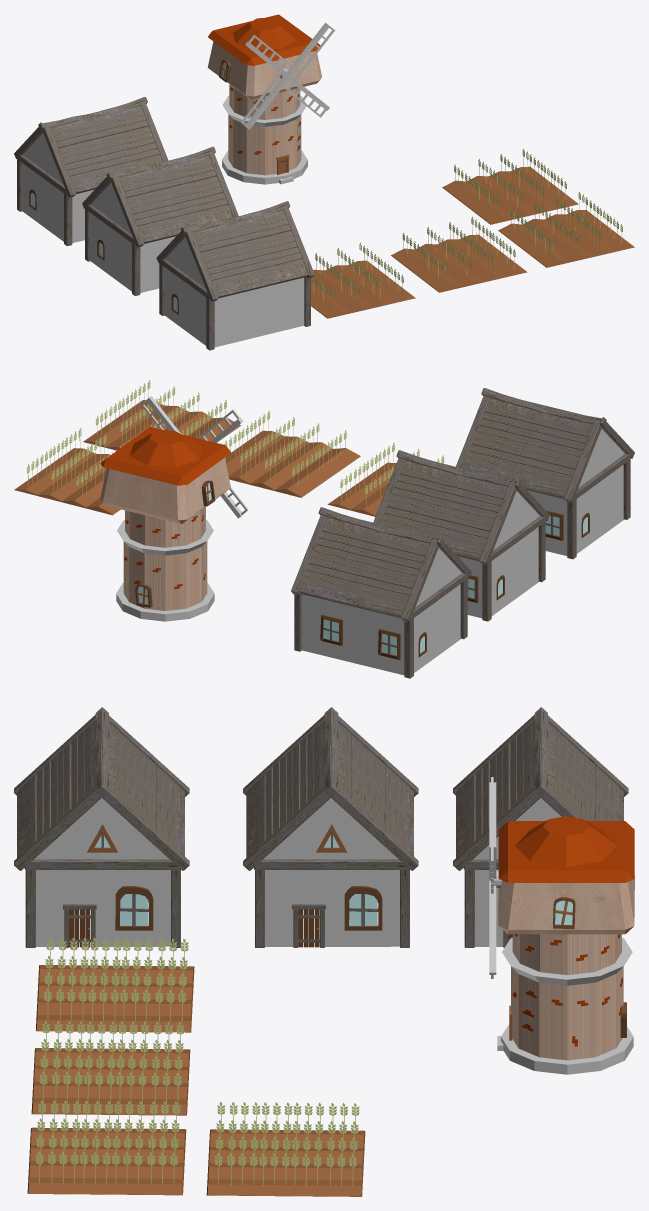
The model's file is field_lvl_32.fbx.
3 renders of one model, top to bottom at view 1: azimuth 30°, elevation 25°; view 2: azimuth 150°, elevation 25°; view 3: azimuth 270°, elevation 25°, orthographic. The views are drawn at different scales.
Visible parts, largest first — view 1: Cube.014, Cube.004, Cube.017, Cube.016, Cylinder, Plane.001, Plane.002, Plane.006, Plane.004, Cube.006, Cube.019, Cube.021 (+8 smaller); view 2: Cube.017, Cube.014, Cube.004, Cube.019, Cylinder, Plane.002, Cube.021, Cube.016, Cube, Cube.006, Plane.006, Plane.001 (+10 smaller); view 3: Cube.004, Cube.014, Cube.017, Cylinder, Cube.006, Cube.016, Plane.006, Plane.001, Plane.004, Plane.002, Cube.021, Cube (+13 smaller).
Part boxes in pixels (x1,y1,x2,y2): Cube.014: (156, 201, 314, 350); Cube.004: (82, 146, 238, 295); Cube.017: (14, 97, 168, 246); Cube.016: (165, 237, 304, 347); Cylinder: (228, 84, 301, 175); Plane.001: (498, 210, 634, 267); Plane.002: (391, 234, 527, 292); Plane.006: (442, 166, 578, 224); Plane.004: (311, 260, 415, 318); Cube.006: (90, 182, 175, 292); Cube.019: (22, 133, 94, 242); Cube.021: (208, 14, 320, 65); Cube.017: (291, 507, 471, 678); Cube.014: (456, 388, 634, 559); Cube.004: (373, 450, 549, 621); Cube.019: (301, 548, 461, 675); Cylinder: (123, 507, 207, 610); Plane.002: (225, 430, 360, 497); Cube.021: (100, 426, 230, 485); Cube.016: (528, 429, 624, 555); Cube: (100, 457, 230, 524); Cube.006: (458, 491, 539, 618); Plane.006: (14, 448, 120, 515); Plane.001: (83, 400, 240, 450); Cube.004: (243, 707, 418, 947); Cube.014: (14, 707, 189, 947); Cube.017: (453, 707, 628, 947); Cylinder: (511, 934, 623, 1060); Cube.006: (263, 798, 399, 946); Cube.016: (34, 798, 170, 946); Plane.006: (206, 1129, 365, 1196); Plane.001: (27, 1127, 186, 1195); Plane.004: (35, 965, 194, 1032); Plane.002: (31, 1048, 190, 1115); Cube.021: (498, 816, 634, 882); Cube: (498, 876, 634, 934).
Size of what is drawn, in the model's own units: 493 by 174 by 398.
